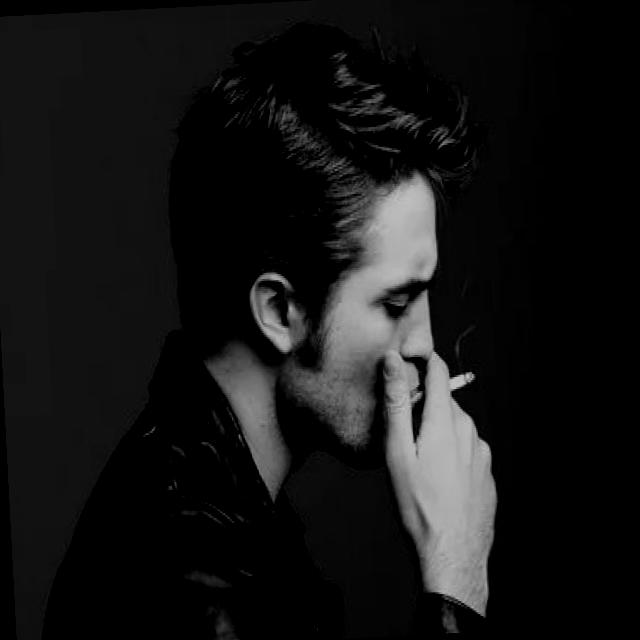cigarette: (404, 363, 482, 408)
